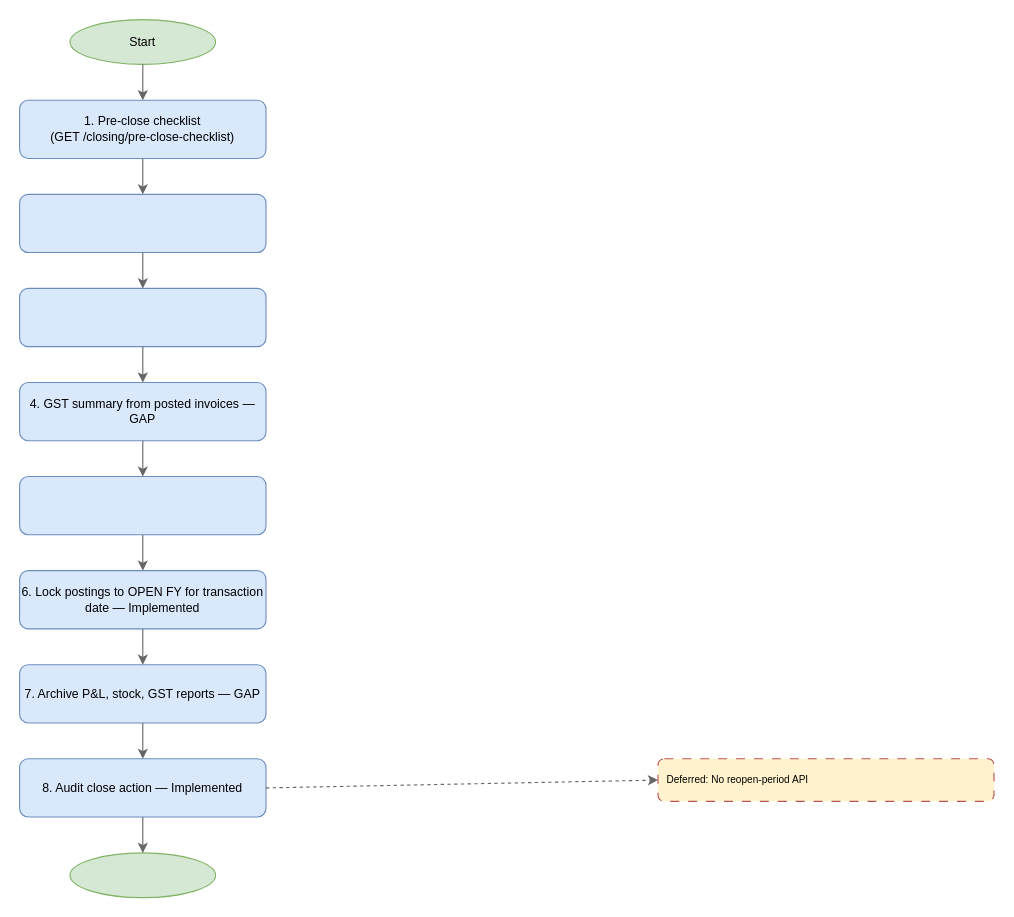
This 1014x917 diagram has some shape labels left out. The box of each missing label's shape, as (x1, y1, x2, y2) in pixels:
2. Stock reconciliation (StockTake optional) — Partial: (18, 193, 266, 253)
3. Ledger review / trial balance — GAP: (18, 287, 266, 347)
5. Mark period closed (FinancialYear.close) — Implemented: (18, 475, 266, 535)
End: (69, 852, 216, 898)
